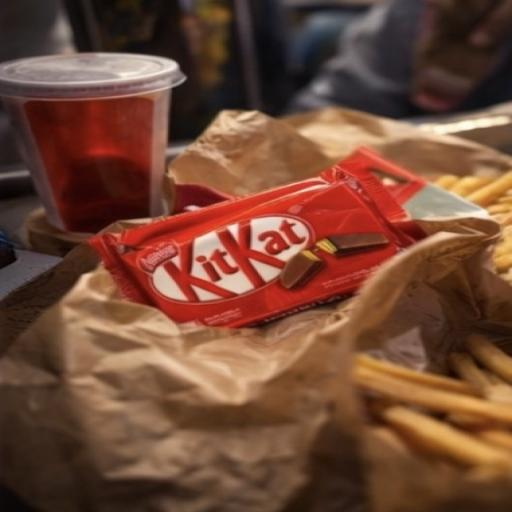kitkat: (57, 128, 473, 340)
